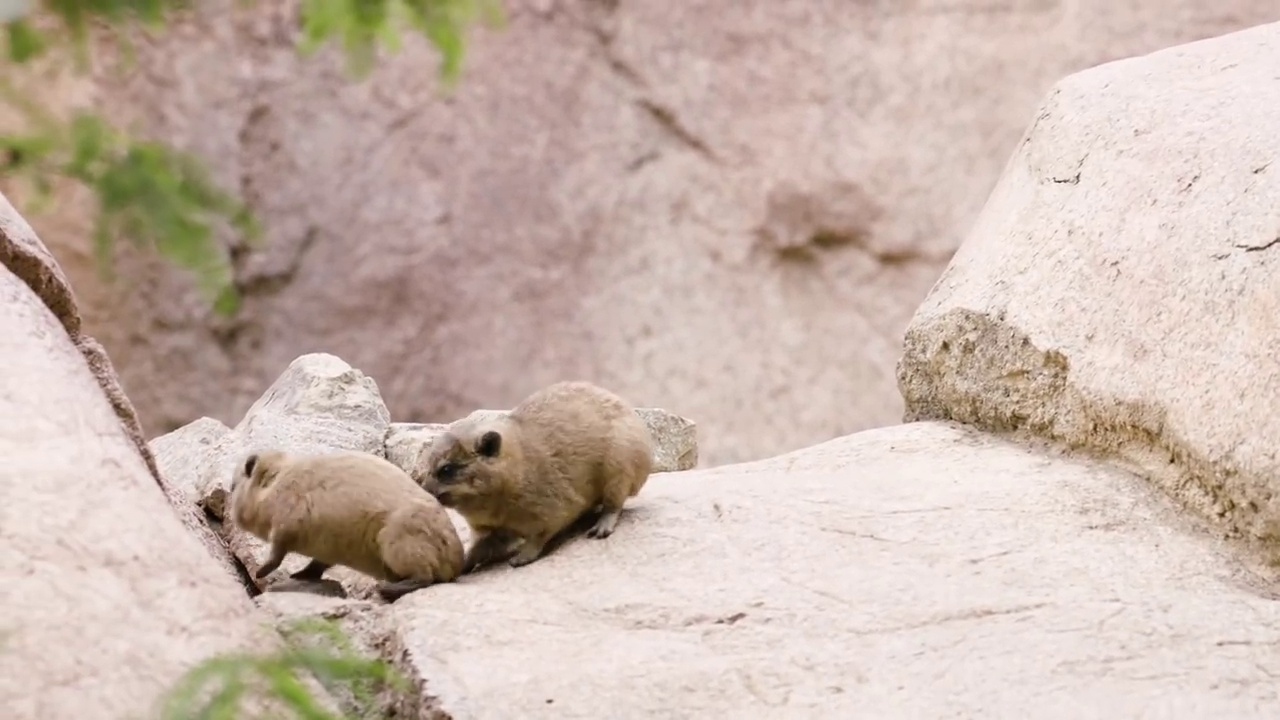Rock Hyrex: (417, 375, 660, 568), (228, 445, 472, 595)
